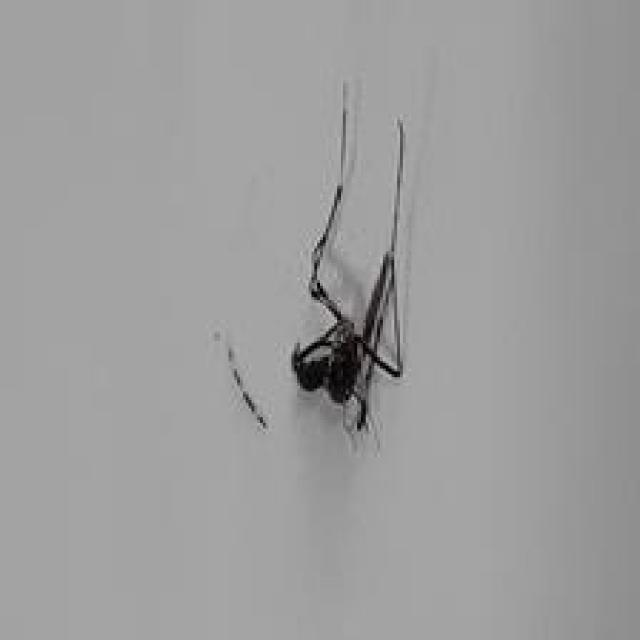Aedes albopictus: (213, 77, 410, 454)
